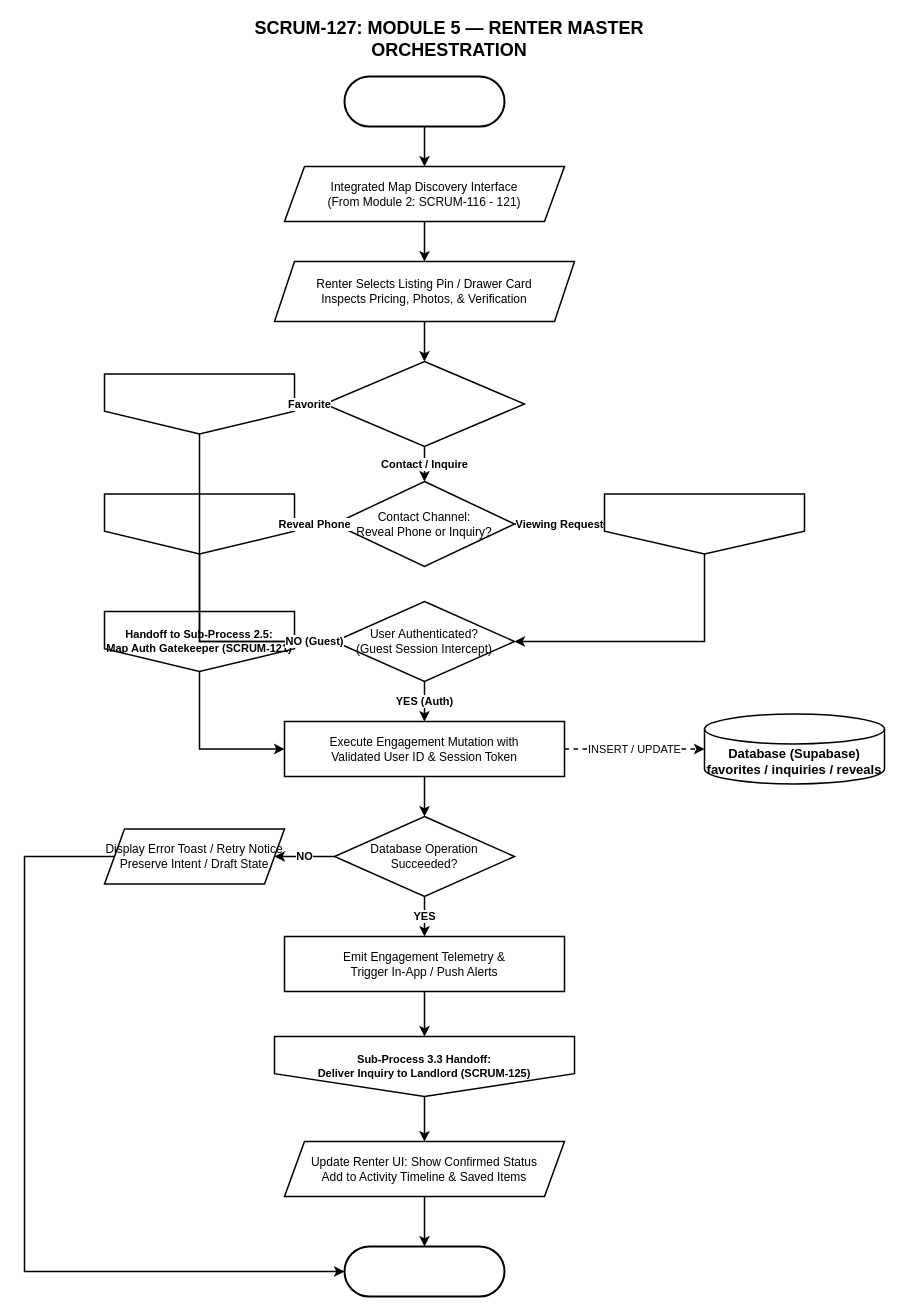
The diagram is 903 pixels wide and 1314 high, and some of its shapes have lost their labels. Each missing label, with the box of its shape:
END: Renter Action Completed: (343, 1245, 505, 1297)
Is Action 'Save Favorite' or Contact Landlord?: (323, 360, 525, 447)
START: Renter Discovery Entry: (343, 75, 505, 127)
Sub-Process 5.1: Save / Remove Favorite Listing: (103, 373, 295, 434)
Sub-Process 5.2: Landlord Contact Reveal Flow: (103, 493, 295, 554)
Sub-Process 5.3: Renter Inquiry & Viewing Request: (603, 493, 805, 554)
